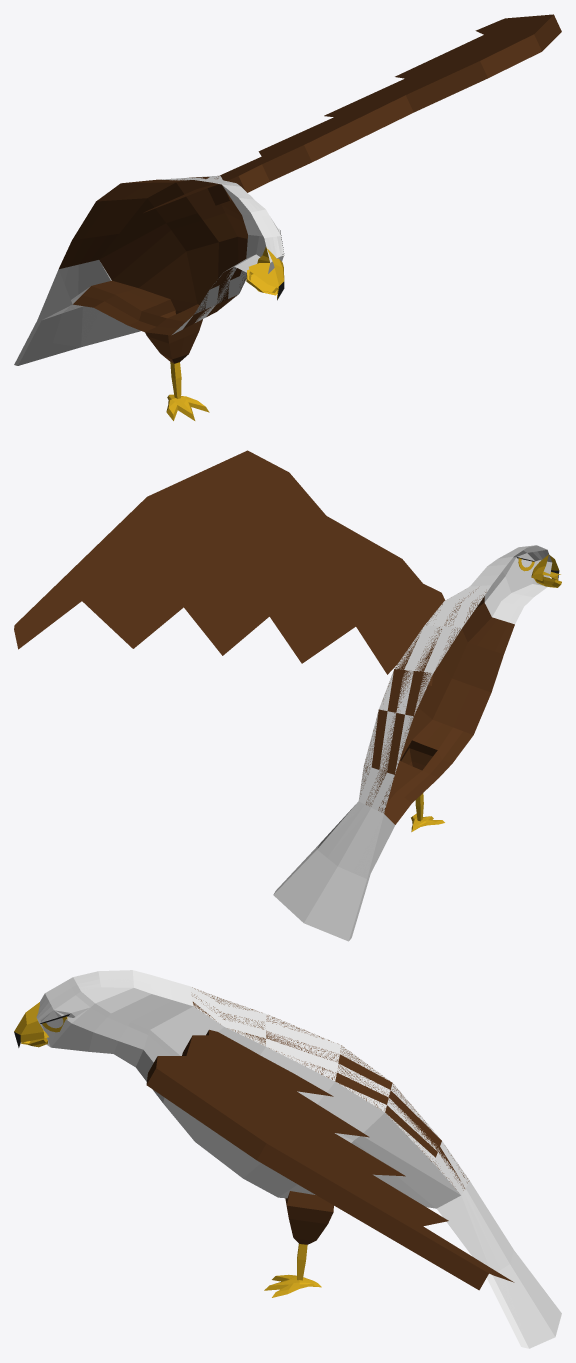
The model's file is Bigbird.glb.
The picture shows the model from 3 angles, top to bottom: view 1: azimuth 30°, elevation 25°; view 2: azimuth 150°, elevation 25°; view 3: azimuth 270°, elevation 25°; orthographic projection. The views are drawn at different scales.
Visible parts, largest first — view 1: 体, 羽骨, 体バックアップ, くちばしうえ, 立方体; view 2: 羽骨, 体, 体バックアップ; view 3: 体バックアップ, 羽骨, 体, くちばしうえ, 立方体.
Part boxes in pixels (x1,y1,x2,y2): 体: (18,176,284,398); 羽骨: (144,14,561,212); 体バックアップ: (14,175,283,365); くちばしうえ: (249,247,284,300); 立方体: (166,394,209,420); 羽骨: (14,450,445,685); 体: (275,545,552,918); 体バックアップ: (273,546,529,941); 体バックアップ: (36,970,561,1348); 羽骨: (146,1029,514,1290); 体: (36,970,523,1334); くちばしうえ: (14,1002,48,1047); 立方体: (264,1274,321,1297).
Bounding box in the file's own units: 16.65 × 13.2 × 16.04.
